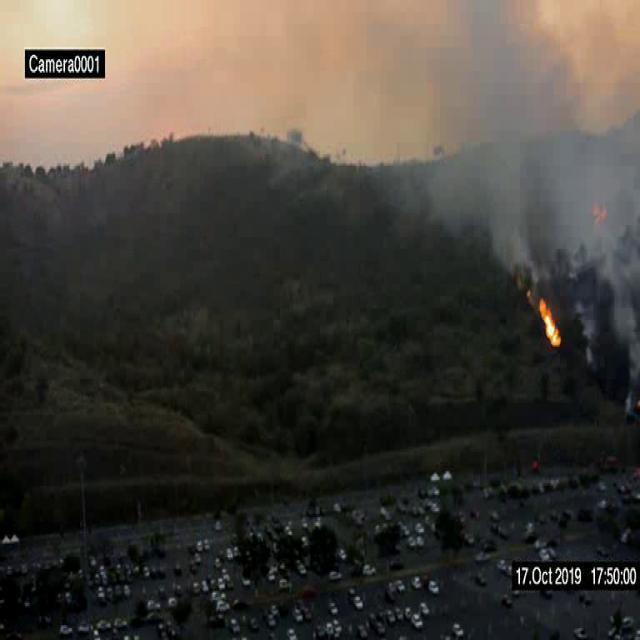Fire: (538, 298, 565, 348)
Smoke: (313, 7, 636, 369)
